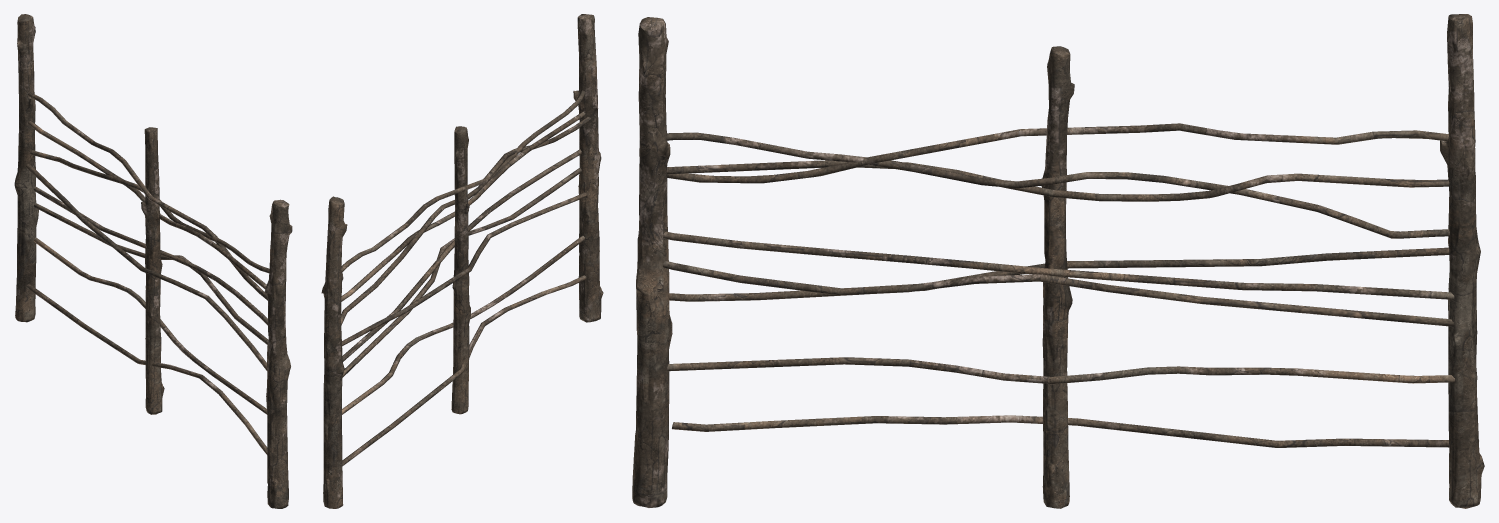
The model's file is SM_Fence_02b.fbx.
The picture shows the model from 3 angles, left to right: view 1: azimuth 30°, elevation 25°; view 2: azimuth 150°, elevation 25°; view 3: azimuth 270°, elevation 25°; orthographic projection. The views are drawn at different scales.
Parts seen in each view (by area): view 1: SM_Fence_02b_LOD0; view 2: SM_Fence_02b_LOD0; view 3: SM_Fence_02b_LOD0.
Part boxes in pixels (x1,y1,x2,y2): SM_Fence_02b_LOD0: [14, 14, 292, 508]; SM_Fence_02b_LOD0: [321, 14, 603, 508]; SM_Fence_02b_LOD0: [632, 14, 1484, 508].
Size of the model in its own units: 18.63 by 211 by 134.
2 materials, 2 textured.
